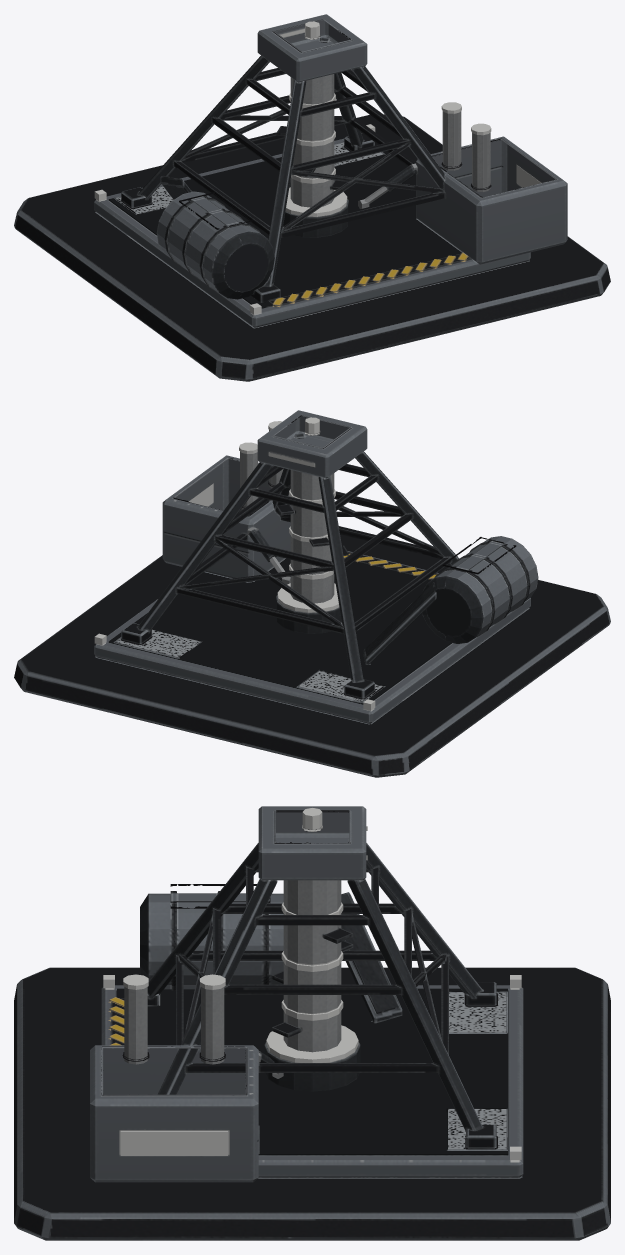
Rendered from chs_extractor.fbx.
The picture shows the model from 3 angles, top to bottom: view 1: azimuth 30°, elevation 25°; view 2: azimuth 150°, elevation 25°; view 3: azimuth 270°, elevation 25°; orthographic projection. The views are drawn at different scales.
Visible parts, largest first — view 1: base_bar, drill_bar, drill_glow_power_bar, base_glow_power_bar, base_glow_running_bar; view 2: base_bar, drill_bar, drill_glow_power_bar, base_glow_running_bar, base_glow_power_bar; view 3: base_bar, drill_bar, base_glow_power_bar, drill_glow_power_bar, base_glow_running_bar.
Part boxes in pixels (x1=…): base_bar: x1=14, y1=14, x2=610, y2=381; drill_bar: x1=276, y1=52, x2=348, y2=237; drill_glow_power_bar: x1=285, y1=93, x2=347, y2=216; base_glow_power_bar: x1=441, y1=102, x2=540, y2=187; base_glow_running_bar: x1=94, y1=21, x2=375, y2=314; base_bar: x1=14, y1=410, x2=610, y2=777; drill_bar: x1=276, y1=470, x2=348, y2=633; drill_glow_power_bar: x1=277, y1=489, x2=339, y2=612; base_glow_running_bar: x1=94, y1=417, x2=375, y2=710; base_glow_power_bar: x1=189, y1=421, x2=282, y2=506; base_bar: x1=14, y1=806, x2=610, y2=1240; drill_bar: x1=264, y1=880, x2=360, y2=1091; base_glow_power_bar: x1=120, y1=974, x2=227, y2=1155; drill_glow_power_bar: x1=266, y1=902, x2=358, y2=1062; base_glow_running_bar: x1=103, y1=808, x2=521, y2=1160.
Size of the model in its own units: 1556 by 1075 by 1556.
Materials: 2 (2 with a texture image).
